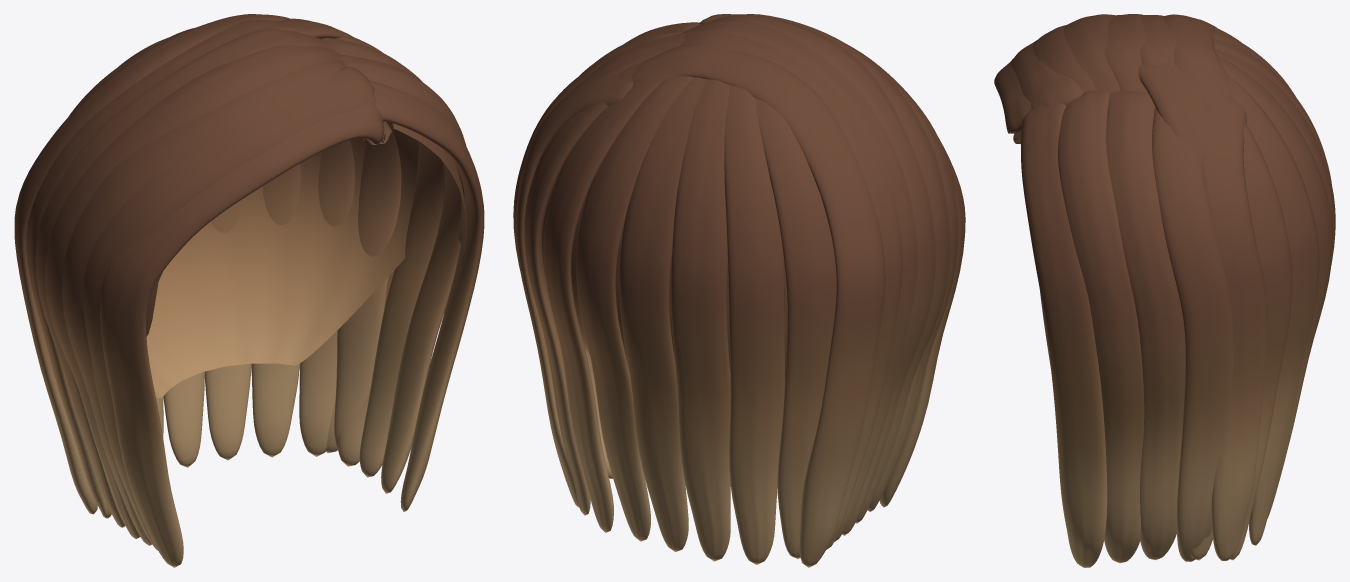
File: Feminine-straight-ears261-hair-ombre.glb
The picture shows the model from 3 angles, left to right: view 1: azimuth 30°, elevation 25°; view 2: azimuth 150°, elevation 25°; view 3: azimuth 270°, elevation 25°; orthographic projection. The views are drawn at different scales.
Parts seen in each view (by area): view 1: 226 hair / Hair / sculpted 0.001, 226 hair / Hair / sculpted 1.002, 226 hair / Hair / sculpted 2.001, 226 hair / Hair / sculpted 1.001; view 2: 226 hair / Hair / sculpted 0.001, 226 hair / Hair / sculpted 2.001, 226 hair / Hair / sculpted 1.002, 226 hair / Hair / sculpted 1.001; view 3: 226 hair / Hair / sculpted 1.002, 226 hair / Hair / sculpted 2.001, 226 hair / Hair / sculpted 0.001.
Part boxes in pixels (x1,y1,x2,y2): 226 hair / Hair / sculpted 0.001: (14,14,443,567); 226 hair / Hair / sculpted 1.002: (35,18,484,550); 226 hair / Hair / sculpted 2.001: (26,19,466,545); 226 hair / Hair / sculpted 1.001: (146,123,466,397); 226 hair / Hair / sculpted 0.001: (543,15,965,567); 226 hair / Hair / sculpted 2.001: (515,14,950,558); 226 hair / Hair / sculpted 1.002: (513,14,958,564); 226 hair / Hair / sculpted 1.001: (542,179,787,381); 226 hair / Hair / sculpted 1.002: (1011,14,1332,567); 226 hair / Hair / sculpted 2.001: (1033,14,1335,563); 226 hair / Hair / sculpted 0.001: (994,14,1331,560).
Size of the model in its own units: 1.02 by 1.19 by 0.7721.
